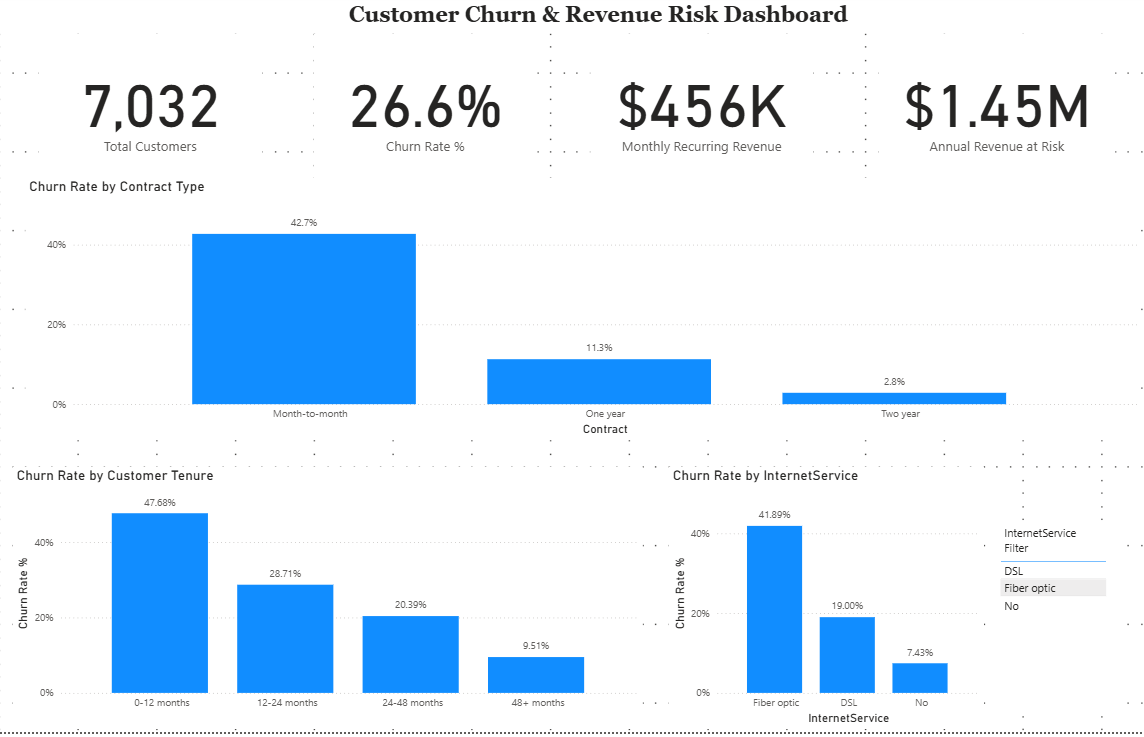

The dashboard page shown, as its layout file describes it:
{"tool":"powerbi","page":{"name":"Executive Summary","canvas":[1400,900],"ordinal":0},"visuals":[{"type":"card","fields":{"Values":["clean_telco_churn.Total Customers"]},"box":[48,48,272,176],"z":0},{"type":"card","fields":{"Values":["clean_telco_churn.Churn Rate %"]},"box":[384,48,272,176],"z":1000},{"type":"card","fields":{"Values":["clean_telco_churn.Total Revenue"]},"box":[720,48,272,176],"z":2000},{"type":"card","fields":{"Values":["clean_telco_churn.Revenue at Risk"]},"box":[1072,48,288,176],"z":3000},{"type":"clusteredColumnChart","title":"Churn Rate by Contract Type","fields":{"Category":["clean_telco_churn.Contract"],"Y":["clean_telco_churn.Churn Rate by Contract"]},"box":[32,224,1360,320],"z":4000},{"type":"clusteredColumnChart","title":"Churn Rate by Customer Tenure","fields":{"Y":["clean_telco_churn.Churn Rate %"],"Category":["clean_telco_churn.TenureGroup"]},"box":[16,576,768,320],"z":5000},{"type":"clusteredColumnChart","title":"Churn Rate by InternetService","fields":{"Category":["clean_telco_churn.InternetService"],"Y":["clean_telco_churn.Churn Rate %"]},"box":[816,576,384,320],"z":6000},{"type":"tableEx","fields":{"Values":["clean_telco_churn.InternetService"]},"box":[1214.2,640.9,150.1,232.6],"z":7000},{"type":"textbox","box":[-8,0,1408,48],"z":8000}]}

Visuals, with their boxes in screenshot pixels (x1, y1, x2, y2), scaled from the page's 1400x900 canvas onto the 1144x737 screenshot:
card - clean_telco_churn.Total Customers: BBox(39, 39, 261, 183)
card - clean_telco_churn.Churn Rate %: BBox(314, 39, 536, 183)
card - clean_telco_churn.Total Revenue: BBox(588, 39, 811, 183)
card - clean_telco_churn.Revenue at Risk: BBox(876, 39, 1111, 183)
"Churn Rate by Contract Type" clusteredColumnChart: BBox(26, 183, 1137, 445)
"Churn Rate by Customer Tenure" clusteredColumnChart: BBox(13, 472, 641, 734)
"Churn Rate by InternetService" clusteredColumnChart: BBox(667, 472, 981, 734)
tableEx - clean_telco_churn.InternetService: BBox(992, 525, 1115, 715)
textbox: BBox(0, 0, 1143, 39)
